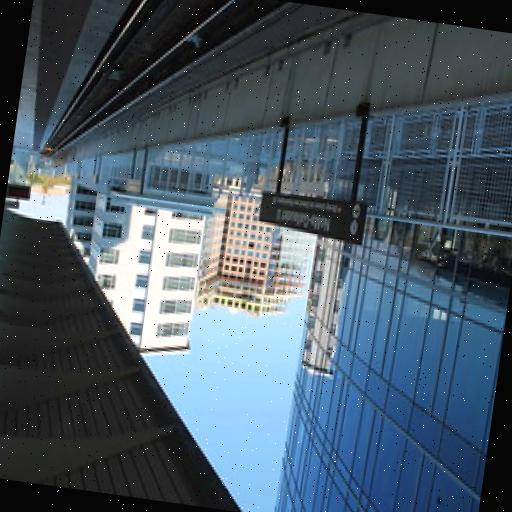platform_edge: (10, 0, 163, 182)
